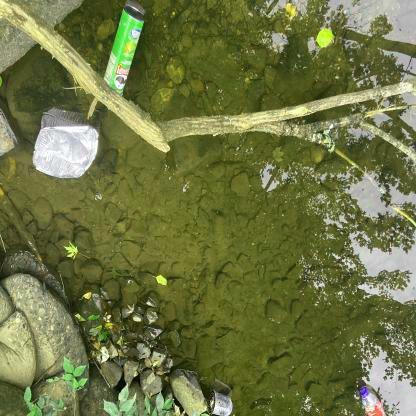Metal: (30, 114, 104, 185), (100, 2, 151, 104)
Plastic: (357, 381, 392, 416), (200, 385, 236, 416)
